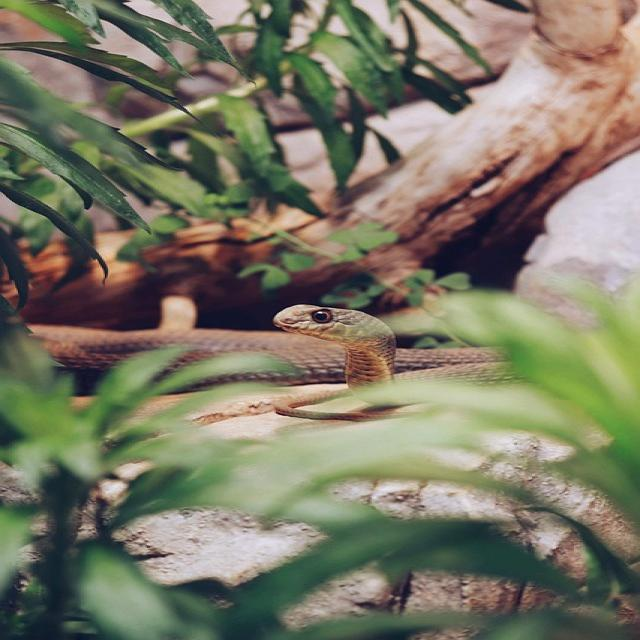Carnivorous: (28, 296, 507, 413)
